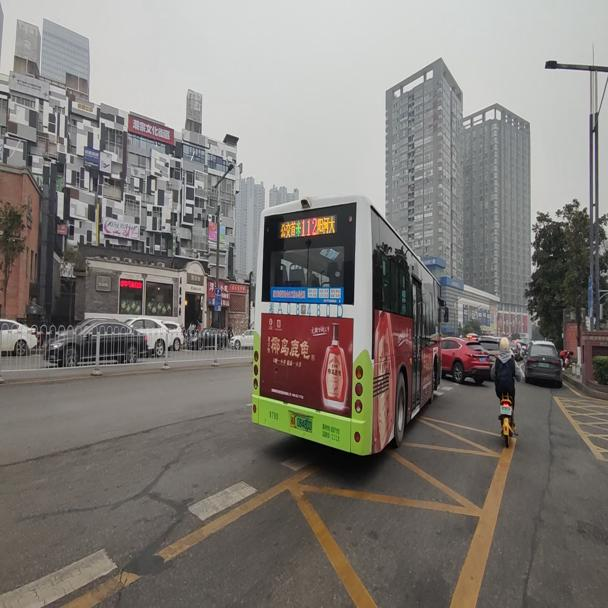bus: (248, 198, 449, 459)
screen: (299, 216, 317, 238)
